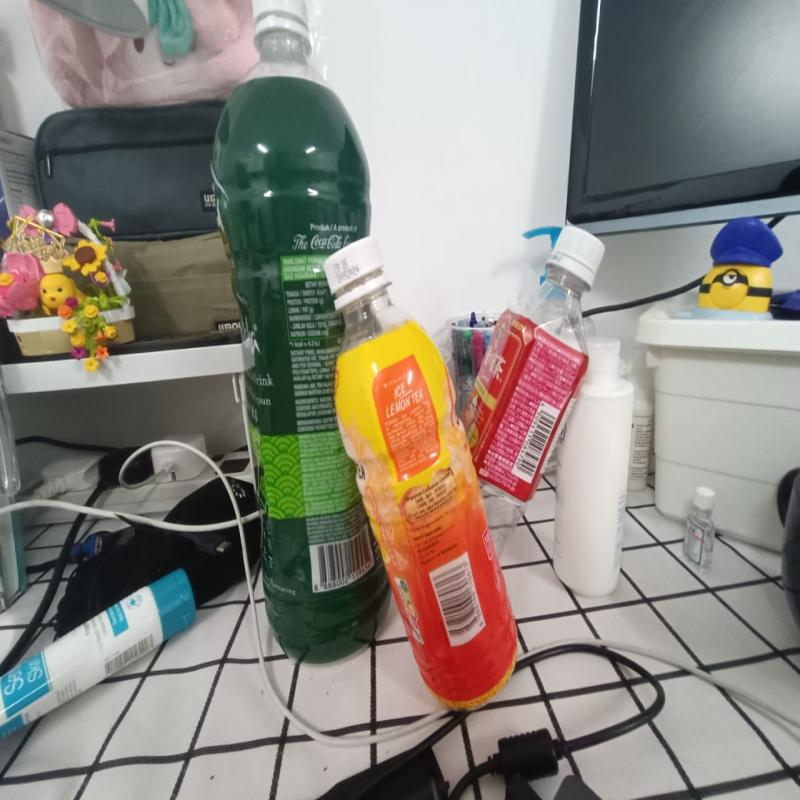botella: (216, 0, 396, 667), (327, 228, 523, 705), (455, 224, 599, 574)
